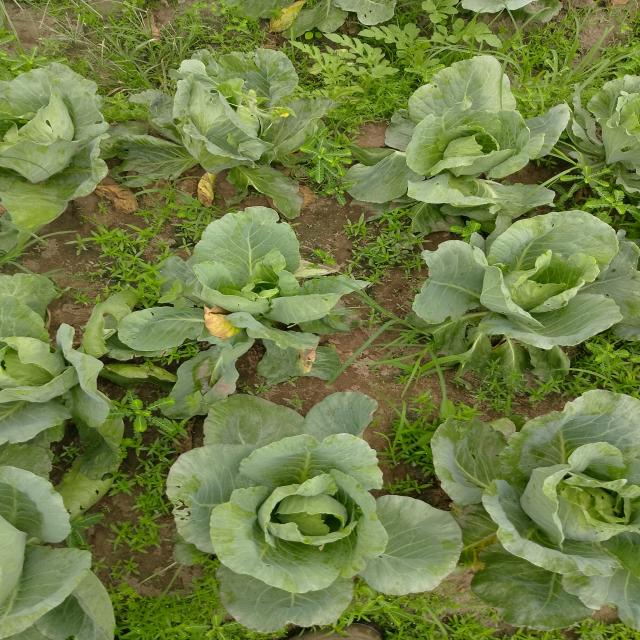Cabbage: (137, 403, 498, 621), (441, 389, 640, 640), (416, 194, 640, 370), (96, 228, 352, 380), (102, 42, 327, 214), (350, 58, 567, 226), (0, 268, 138, 471), (0, 466, 140, 640), (0, 52, 115, 257)
